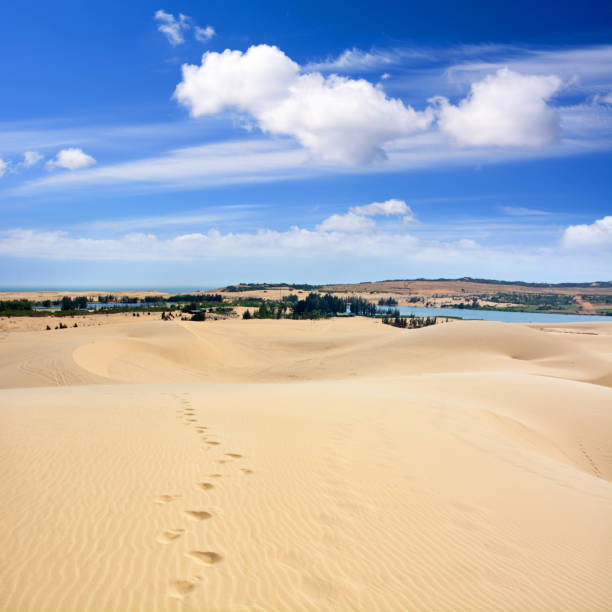human_foot_print: (181, 408, 220, 450), (168, 576, 200, 598), (186, 550, 221, 564), (157, 528, 184, 543), (183, 510, 211, 520), (155, 494, 179, 503), (196, 482, 213, 490), (225, 453, 242, 458), (241, 468, 253, 474), (205, 440, 219, 445), (216, 459, 228, 463), (209, 473, 221, 477)
